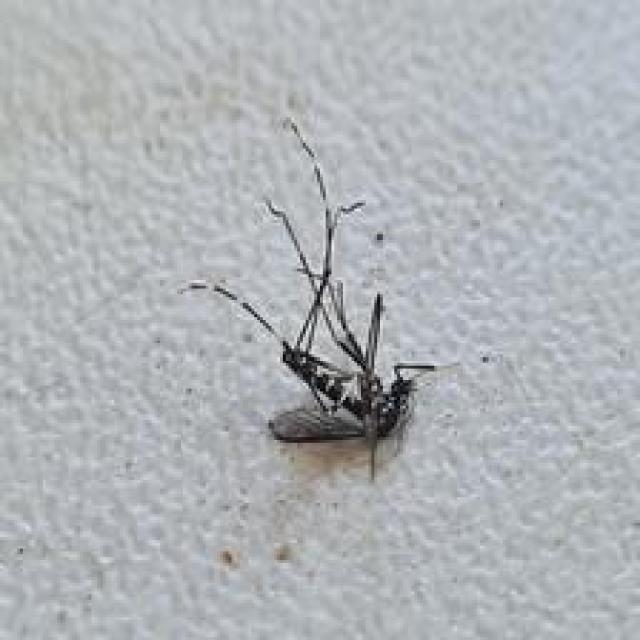Aedes albopictus: (177, 113, 460, 481)
